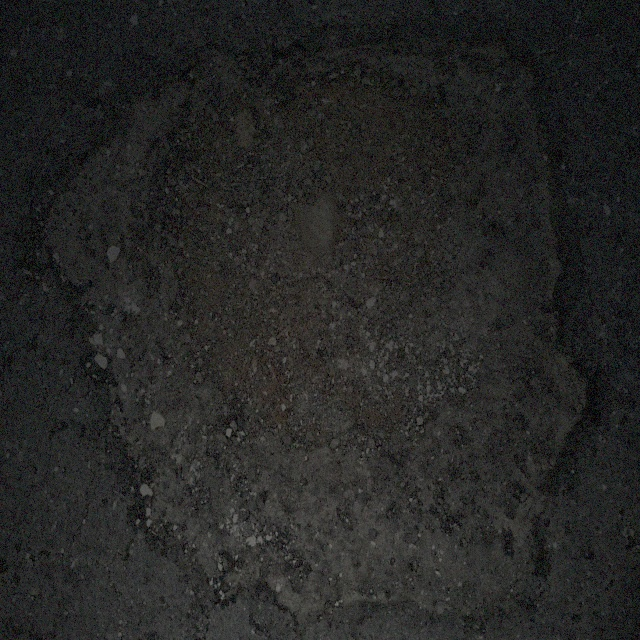pothole: (45, 23, 595, 622)
